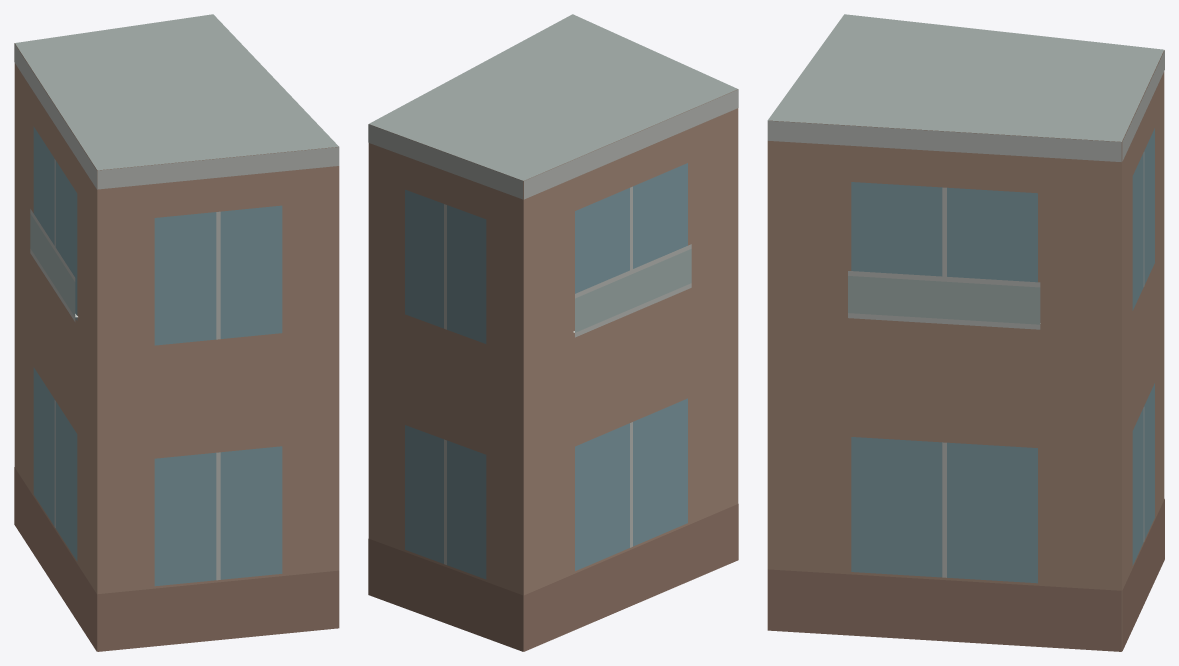
Rendered from survey-upis-32489274.glb.
3 views of the same model, side by side, from view 1: azimuth 30°, elevation 25°; view 2: azimuth 150°, elevation 25°; view 3: azimuth 270°, elevation 25° (orthographic). The views are drawn at different scales.
Parts seen in each view (by area): view 1: survey-upis-32489274.tmp; view 2: survey-upis-32489274.tmp; view 3: survey-upis-32489274.tmp.
Boxes of the visible parts, bbox=[...] form: survey-upis-32489274.tmp: bbox=[14, 14, 339, 651]; survey-upis-32489274.tmp: bbox=[368, 14, 738, 651]; survey-upis-32489274.tmp: bbox=[767, 14, 1164, 651].
Bounding box in the file's own units: 3.29 × 6.1 × 4.31.
